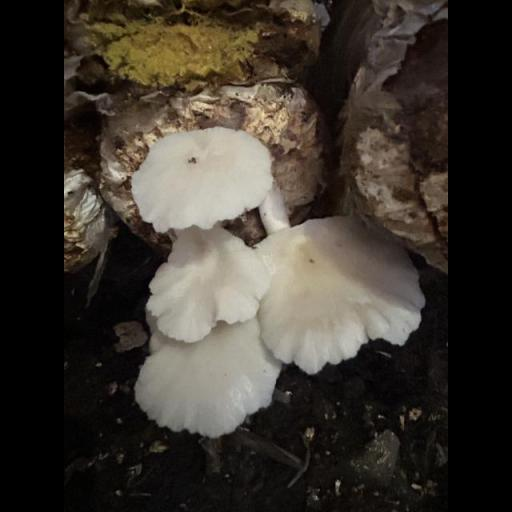White Oyster Mushroom: (121, 121, 432, 448)
